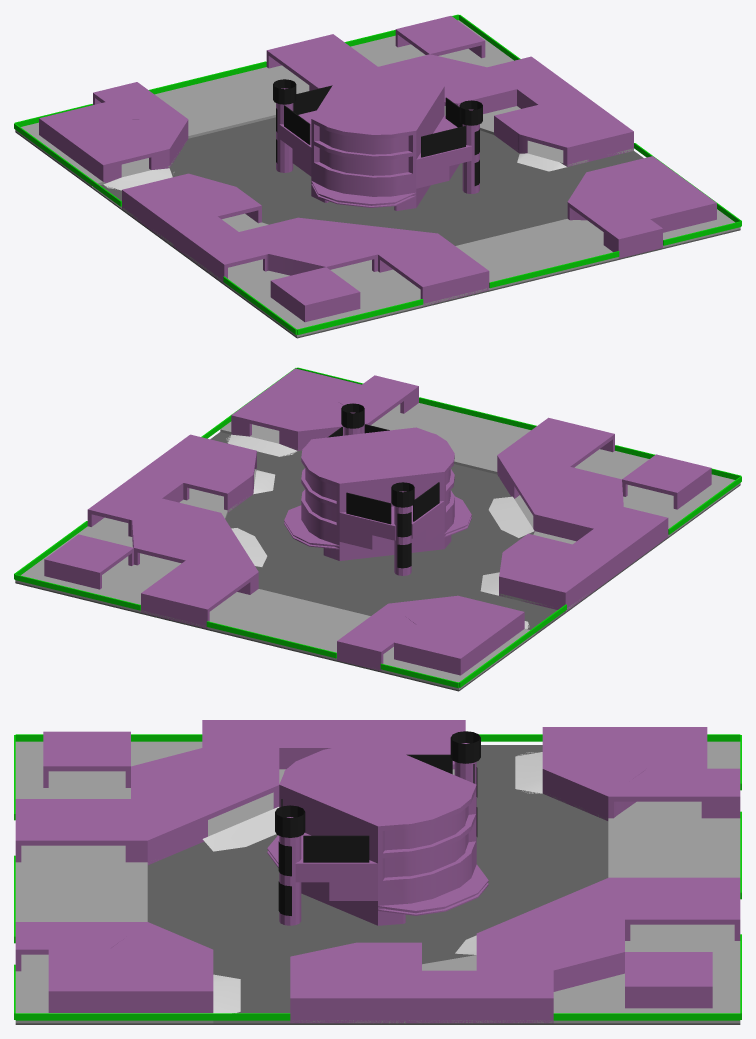
File: arena04_r004.fbx
3 renders of one model, top to bottom at view 1: azimuth 30°, elevation 25°; view 2: azimuth 150°, elevation 25°; view 3: azimuth 270°, elevation 25°, orthographic. The views are drawn at different scales.
Visible parts, largest first — view 1: top_floor (×2), floor, middle_building, polySurface11 (×2), polySurface13 (×2), polySurface12 (×2), polySurface9 (×2), polySurface8 (×2), polySurface10 (×2), polySurface15 (×2), tower_connection_building (×2), polySurface14 (×2) (+10 smaller); view 2: top_floor (×2), floor, middle_building, polySurface11 (×2), polySurface13 (×2), polySurface12 (×2), polySurface8 (×2), polySurface9 (×2), polySurface10 (×2), polySurface15 (×2), tower_connection_building, polySurface14 (×2) (+12 smaller); view 3: floor, top_floor (×2), middle_building, polySurface13 (×2), polySurface12 (×2), polySurface11 (×2), polySurface8 (×2), polySurface9 (×2), polySurface10 (×2), polySurface15 (×2), polySurface14 (×2), polySurface16 (×2) (+9 smaller).
Boxes of the visible parts, x1=… form: top_floor (×2): x1=15, y1=20, x2=740, y2=336; floor: x1=15, y1=117, x2=740, y2=338; middle_building: x1=311, y1=70, x2=444, y2=210; polySurface11 (×2): x1=122, y1=94, x2=633, y2=246; polySurface13 (×2): x1=39, y1=102, x2=716, y2=232; polySurface12 (×2): x1=173, y1=54, x2=582, y2=283; polySurface9 (×2): x1=266, y1=34, x2=489, y2=305; polySurface8 (×2): x1=269, y1=54, x2=487, y2=271; polySurface10 (×2): x1=270, y1=16, x2=485, y2=322; polySurface15 (×2): x1=93, y1=82, x2=662, y2=258; tower_connection_building (×2): x1=279, y1=110, x2=471, y2=188; polySurface14 (×2): x1=130, y1=119, x2=626, y2=201; top_floor (×2): x1=15, y1=403, x2=740, y2=689; floor: x1=15, y1=432, x2=740, y2=691; middle_building: x1=301, y1=427, x2=454, y2=560; polySurface11 (×2): x1=139, y1=434, x2=616, y2=611; polySurface13 (×2): x1=231, y1=368, x2=524, y2=675; polySurface12 (×2): x1=87, y1=472, x2=668, y2=574; polySurface8 (×2): x1=134, y1=459, x2=621, y2=567; polySurface9 (×2): x1=141, y1=417, x2=614, y2=628; polySurface10 (×2): x1=44, y1=454, x2=711, y2=589; polySurface15 (×2): x1=337, y1=375, x2=418, y2=670; tower_connection_building: x1=339, y1=501, x2=444, y2=549; polySurface14 (×2): x1=298, y1=402, x2=457, y2=625; floor: x1=15, y1=745, x2=740, y2=1024; top_floor (×2): x1=15, y1=741, x2=740, y2=1023; middle_building: x1=279, y1=743, x2=476, y2=925; polySurface13 (×2): x1=48, y1=727, x2=707, y2=1012; polySurface12 (×2): x1=132, y1=720, x2=624, y2=1023; polySurface11 (×2): x1=290, y1=720, x2=465, y2=1023; polySurface8 (×2): x1=131, y1=766, x2=624, y2=951; polySurface9 (×2): x1=15, y1=799, x2=740, y2=940; polySurface10 (×2): x1=43, y1=731, x2=712, y2=1008; polySurface15 (×2): x1=15, y1=768, x2=740, y2=971; polySurface14 (×2): x1=109, y1=768, x2=646, y2=949; polySurface16 (×2): x1=131, y1=817, x2=624, y2=900.
Bounding box in the file's own units: 362 × 67 × 398.
